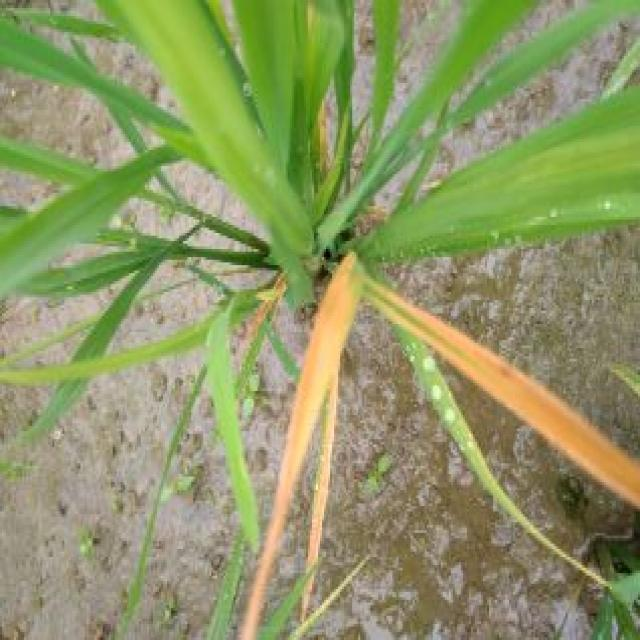Rice Tungro: (252, 288, 362, 630)
